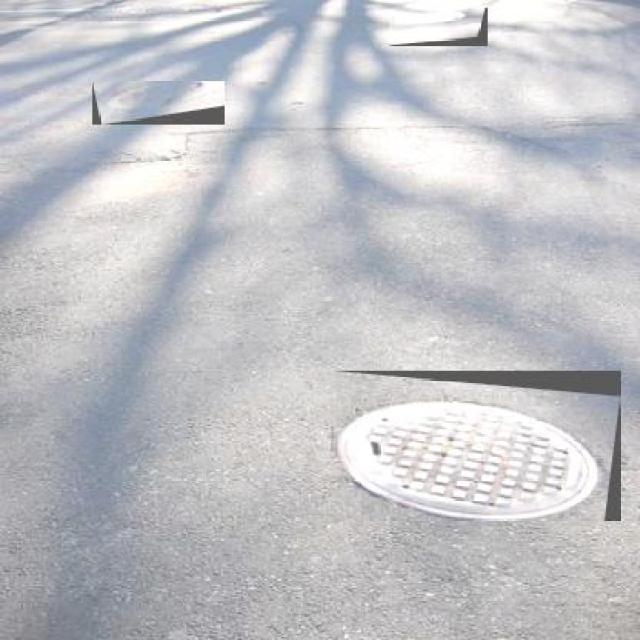Manhole: (334, 367, 623, 516), (92, 80, 225, 125), (390, 8, 488, 46)
